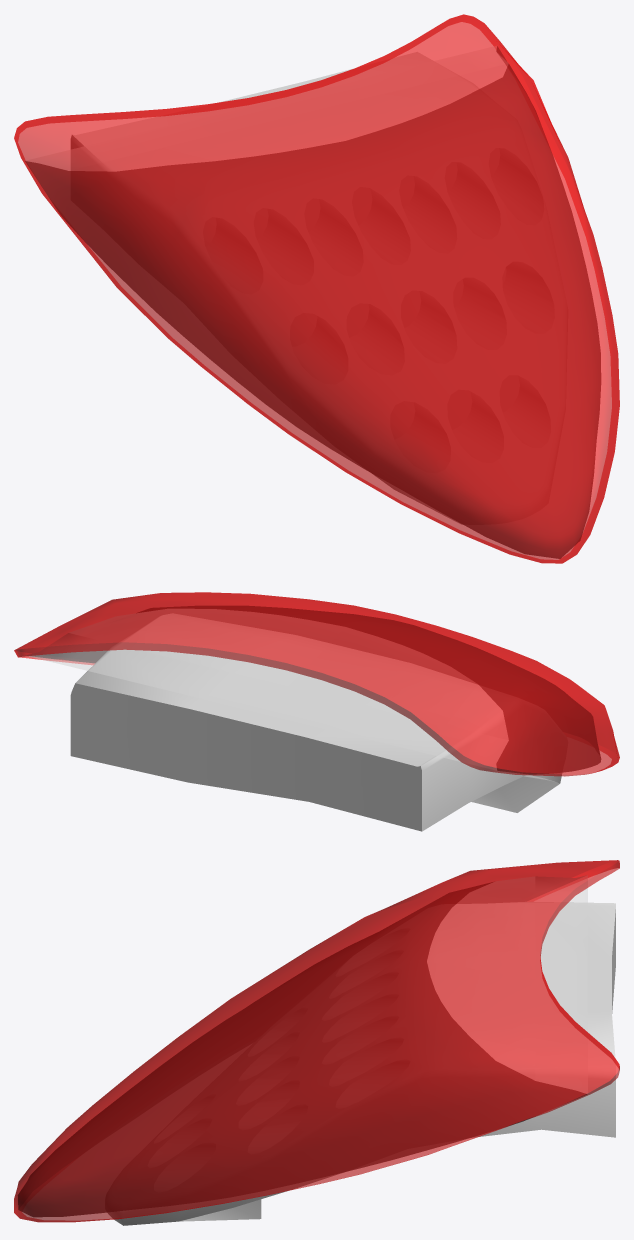
File: BrakeLight_RED.glb
The picture shows the model from 3 angles, top to bottom: view 1: azimuth 30°, elevation 25°; view 2: azimuth 150°, elevation 25°; view 3: azimuth 270°, elevation 25°; orthographic projection. The views are drawn at different scales.
Parts seen in each view (by area): view 1: BrakeLight_RED, BrakeLight_RIR, BrakeLight_RED_Inner; view 2: BrakeLight_RED_Inner, BrakeLight_RIR, BrakeLight_RED; view 3: BrakeLight_RED, BrakeLight_RIR, BrakeLight_RED_Inner.
Part boxes in pixels (<box>): BrakeLight_RED: <box>14,14,619,563</box>; BrakeLight_RIR: <box>25,46,600,558</box>; BrakeLight_RED_Inner: <box>71,52,478,524</box>; BrakeLight_RED_Inner: <box>70,614,561,831</box>; BrakeLight_RIR: <box>26,606,600,774</box>; BrakeLight_RED: <box>14,592,619,776</box>; BrakeLight_RED: <box>14,860,619,1222</box>; BrakeLight_RIR: <box>18,875,587,1216</box>; BrakeLight_RED_Inner: <box>107,902,615,1225</box>.
Bounding box in the file's own units: 0.1748 × 0.0943 × 0.2005.
